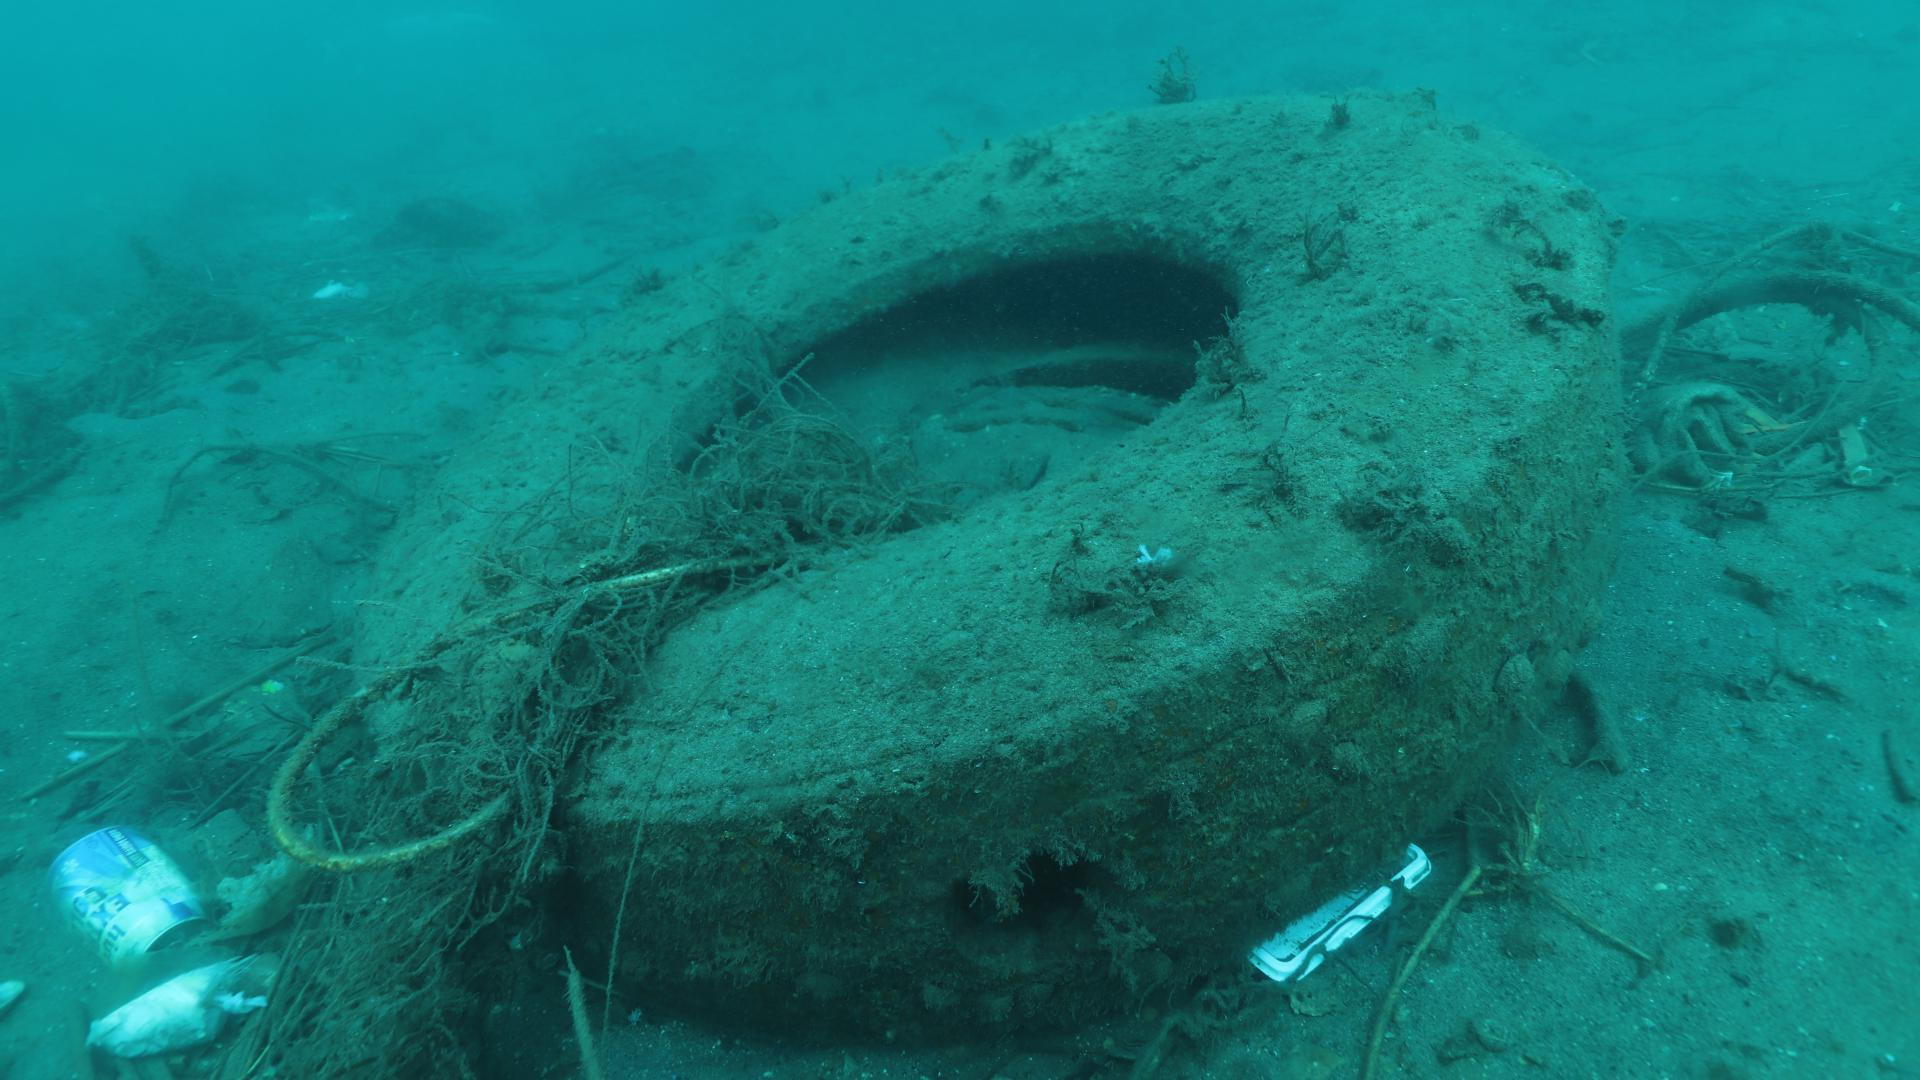tire: (347, 92, 1626, 1056)
